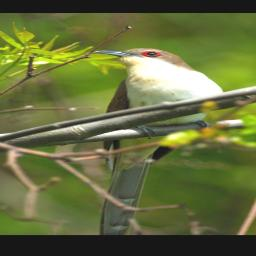Cuckoo: (89, 47, 230, 235)
